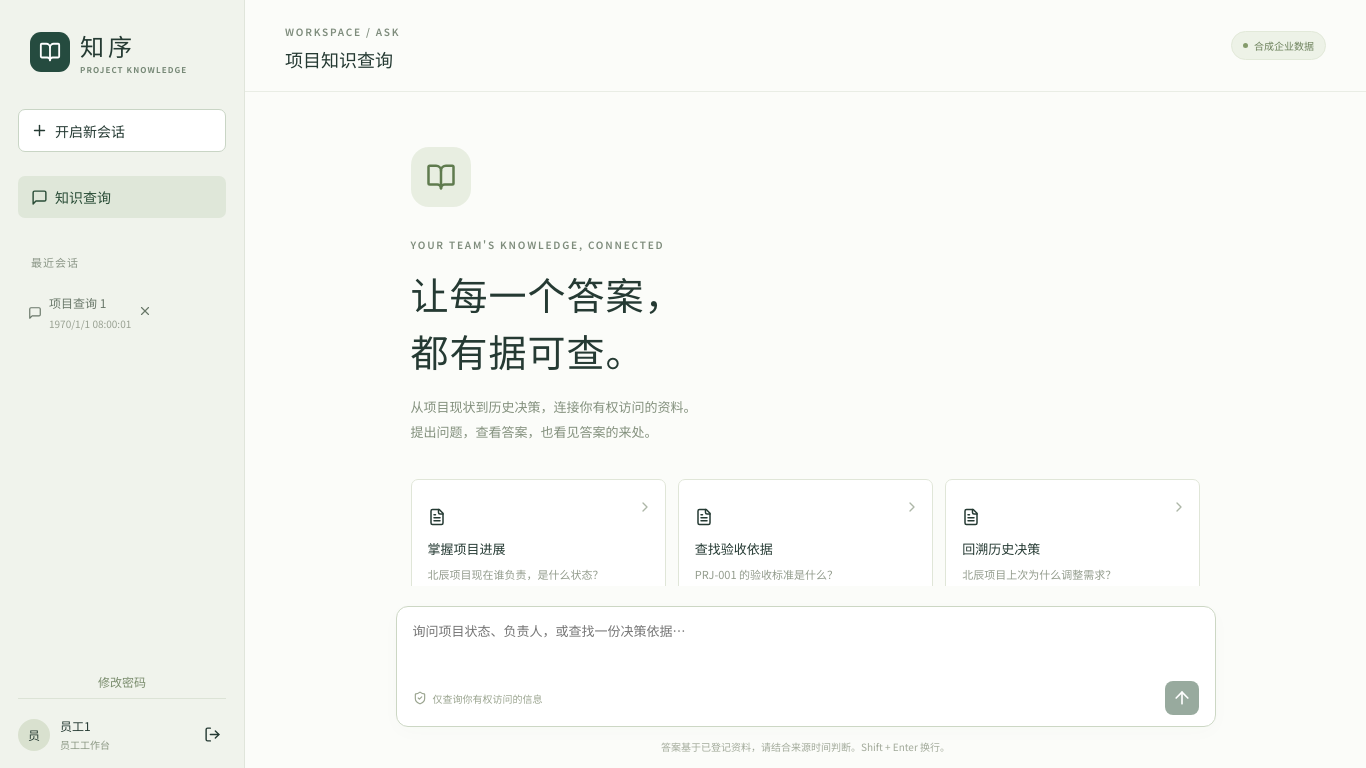
Test: 员工关键交互 › 过期会话隐藏旧消息并提示重开
Click the button "项目查询 1 1970/1/1 08:00:01" at coordinates (122, 312), box [18,282,226,343]
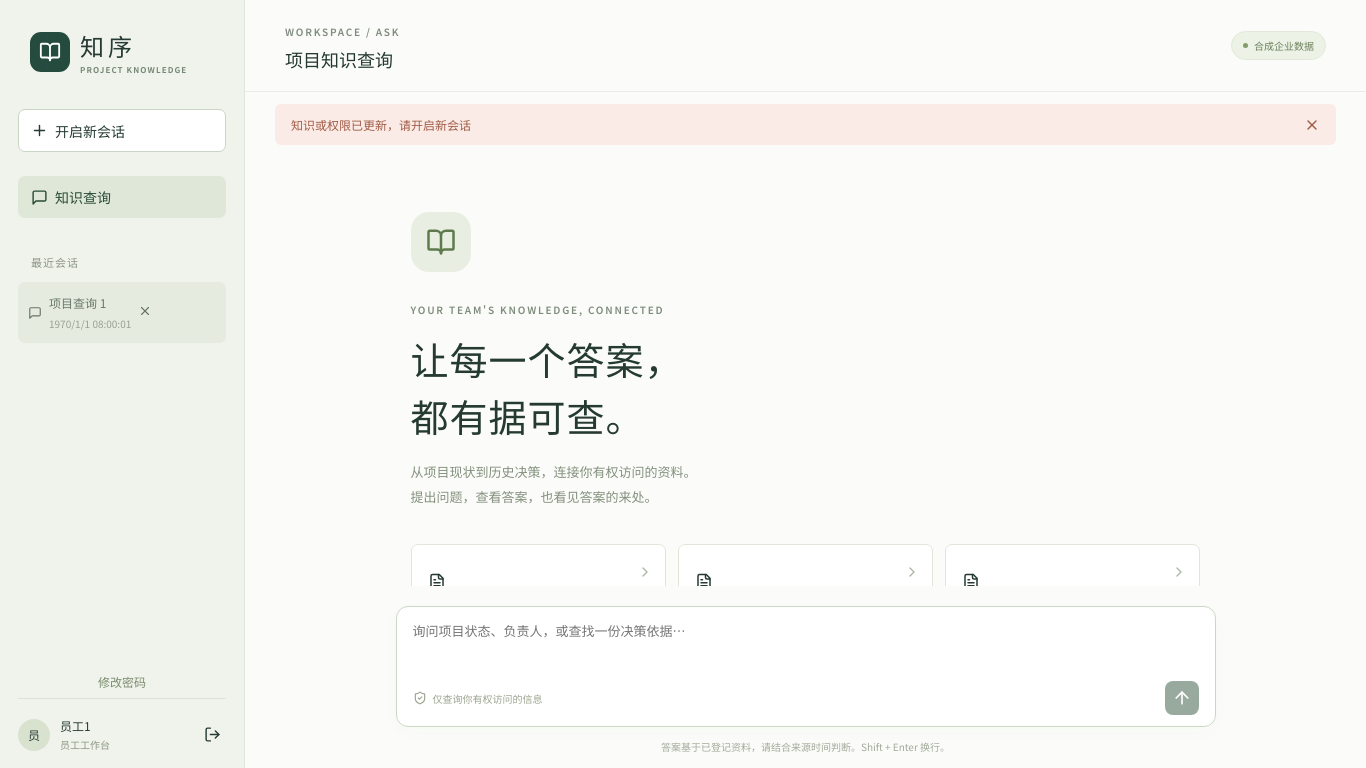
Result: the message shows "请开启新会话" at [291,116,471,133]
